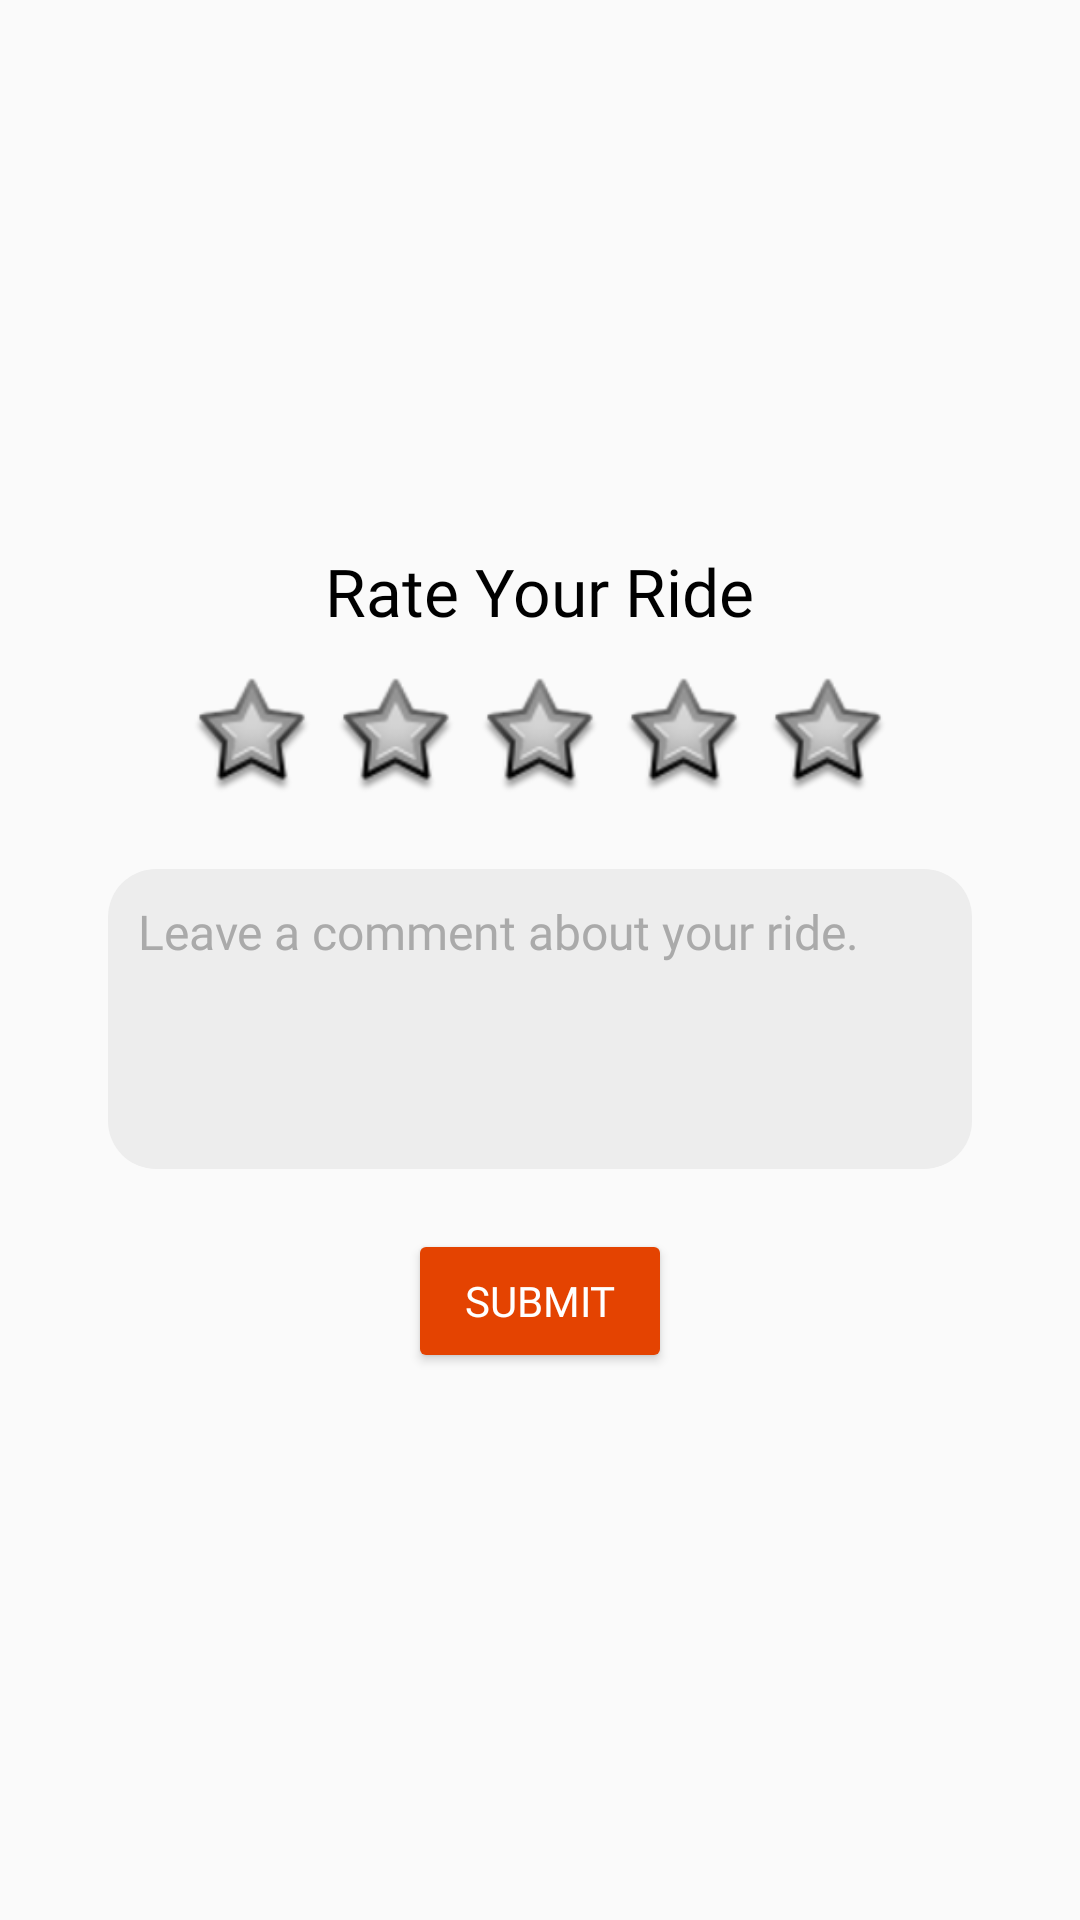

Icon bounding boxes for this 1080*1920 phone screenshot, format (x1, y1, x2, y2):
star off: (199, 679, 305, 787), (343, 679, 449, 787), (487, 679, 593, 787), (631, 679, 737, 787), (775, 679, 881, 787)
